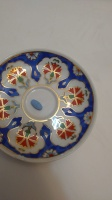Majezik: (30, 98, 44, 111)
